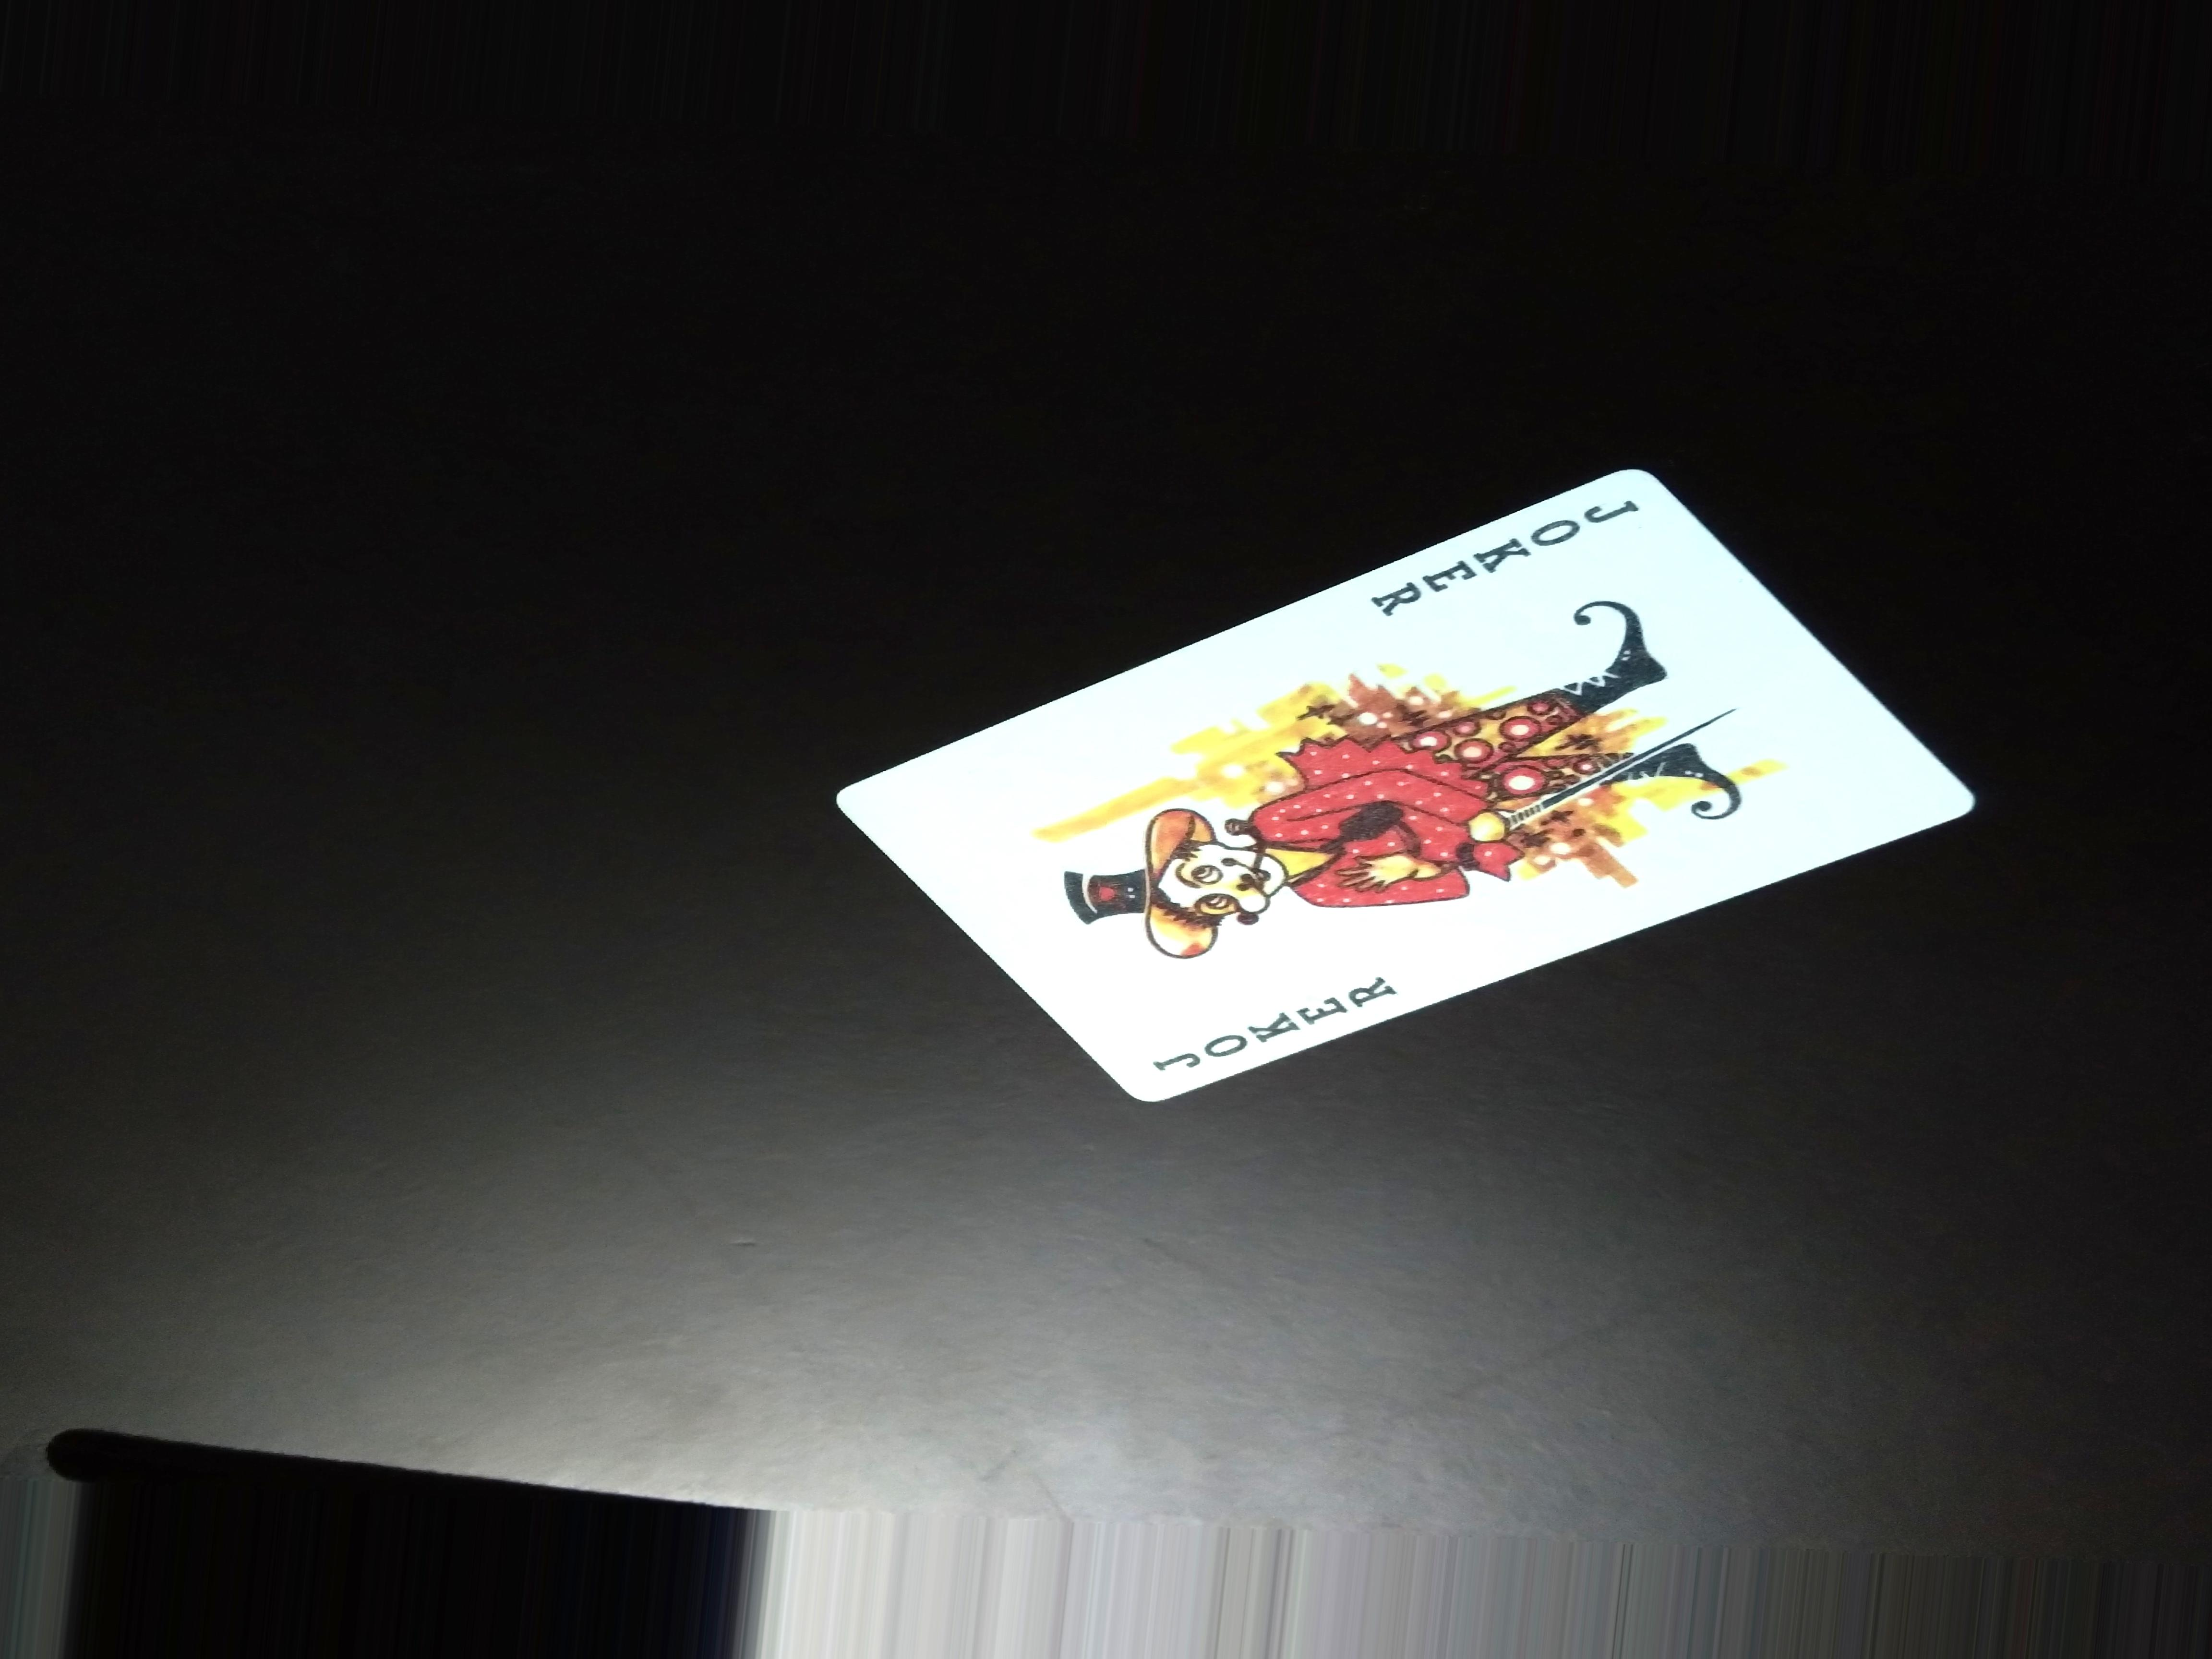JOKER: (1139, 953, 1402, 1063)
